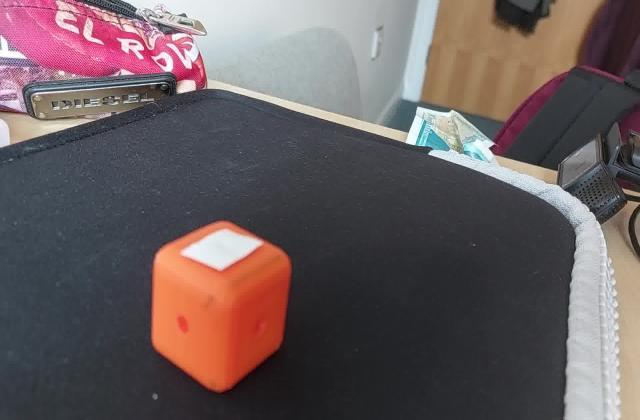cube: (148, 212, 296, 395)
white: (180, 224, 264, 276)
